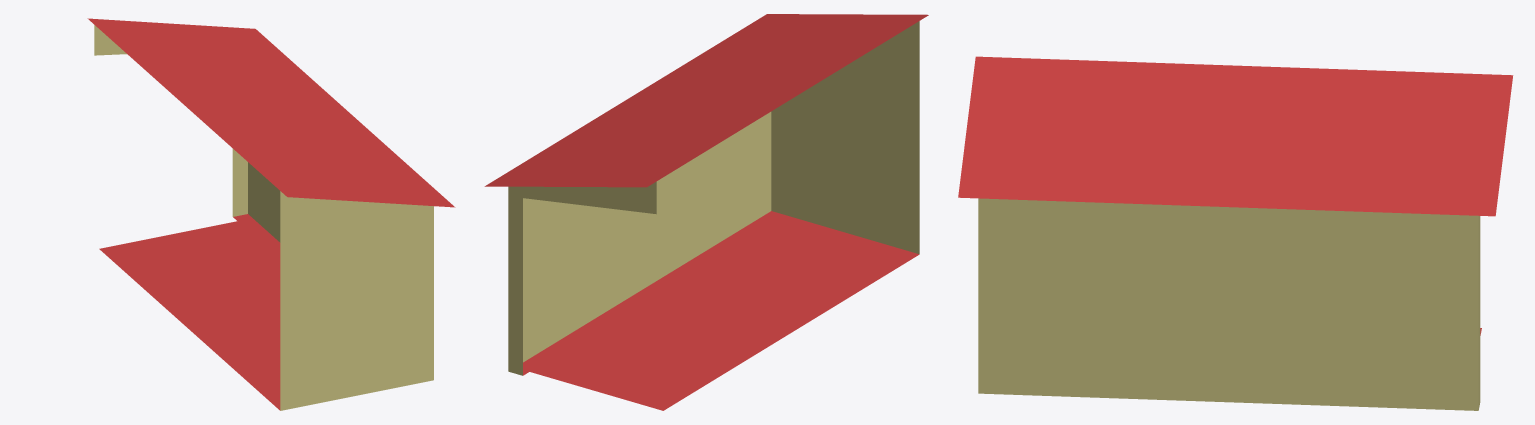
The picture shows the model from 3 angles, left to right: view 1: azimuth 30°, elevation 25°; view 2: azimuth 150°, elevation 25°; view 3: azimuth 270°, elevation 25°; orthographic projection. The views are drawn at different scales.
Size of the model in its own units: 8.24 by 15.11 by 8.17.
